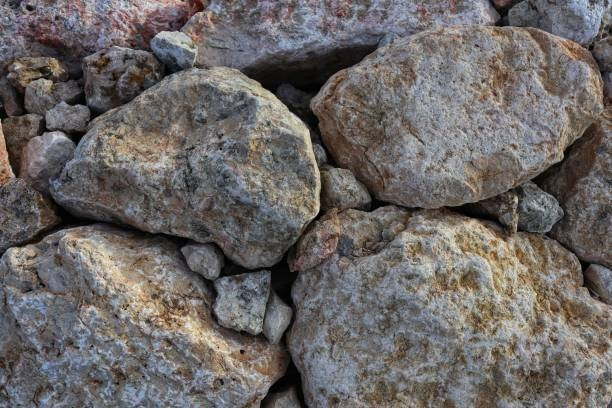obstacle: (271, 197, 611, 406), (0, 210, 285, 405)
